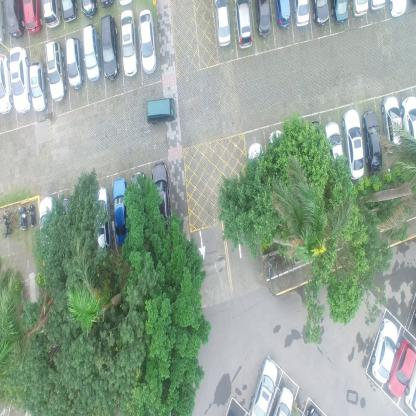car: (370, 319, 398, 386), (248, 357, 278, 415), (387, 338, 416, 397), (9, 44, 31, 114), (343, 106, 364, 178), (45, 39, 67, 102), (151, 162, 172, 226), (93, 186, 113, 253), (362, 107, 382, 174), (100, 12, 120, 79), (119, 8, 138, 78), (380, 94, 402, 151), (138, 8, 157, 73), (113, 176, 130, 246), (82, 22, 100, 82), (65, 36, 84, 89), (324, 119, 343, 171), (29, 60, 48, 112), (39, 194, 56, 251), (234, 0, 253, 50), (146, 96, 176, 126), (400, 94, 416, 150), (214, 0, 232, 49), (0, 54, 13, 113), (4, 0, 24, 38), (22, 0, 44, 34), (272, 385, 294, 415), (256, 0, 272, 39), (404, 361, 416, 412), (42, 0, 61, 29), (311, 0, 331, 26), (274, 0, 291, 30), (293, 0, 311, 28), (331, 0, 351, 25), (62, 0, 79, 22), (81, 0, 99, 19), (350, 0, 368, 18)
